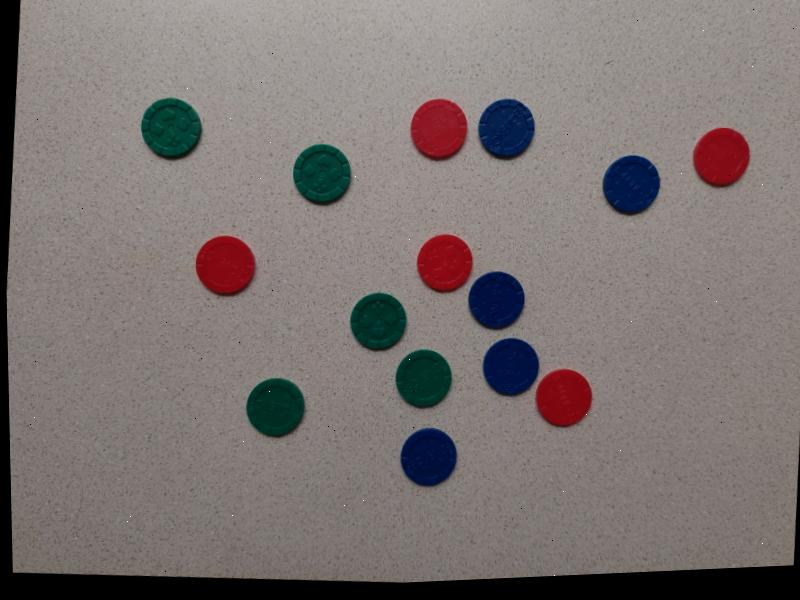Blue_Token: (379, 417, 479, 499), (471, 93, 545, 172), (463, 266, 533, 337), (598, 147, 666, 220), (482, 337, 549, 404)
Green_Token: (235, 370, 321, 445), (287, 137, 361, 215), (389, 337, 463, 411), (134, 92, 205, 165), (347, 288, 414, 354)
Red_Token: (189, 229, 264, 307), (405, 228, 480, 305), (404, 87, 473, 164), (688, 123, 758, 194), (534, 367, 595, 431)
